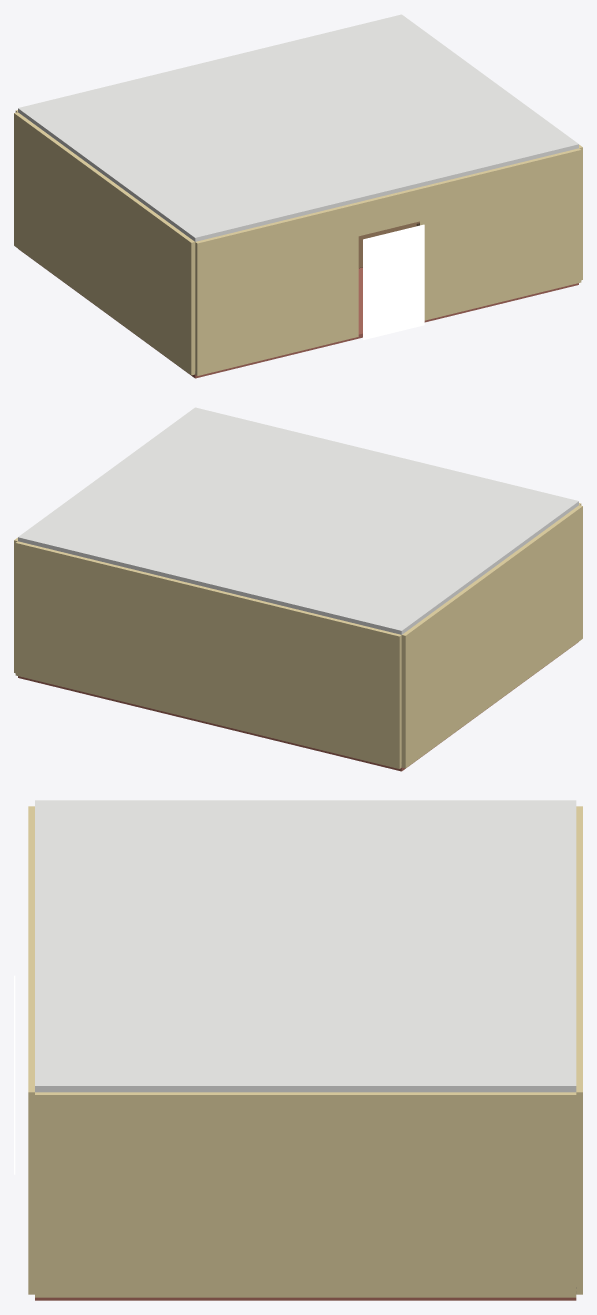
Rendered from room_kirana.glb.
3 views of the same model, one above another, from view 1: azimuth 30°, elevation 25°; view 2: azimuth 150°, elevation 25°; view 3: azimuth 270°, elevation 25° (orthographic). The views are drawn at different scales.
Parts seen in each view (by area): view 1: Room; view 2: Room; view 3: Room.
Boxes of the visible parts, x1,y1,x2,y2 form: Room: [14, 14, 582, 378]; Room: [14, 407, 582, 771]; Room: [14, 800, 582, 1300].
Bounding box in the file's own units: 10.2 × 3.5 × 8.41.
